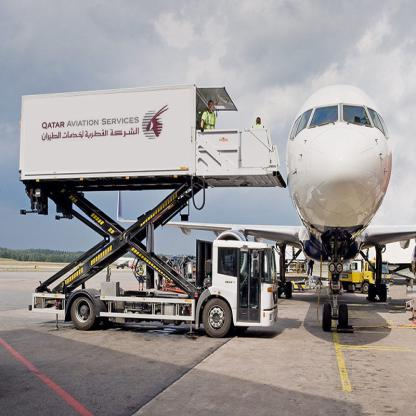Catering truck: (14, 75, 293, 346)
